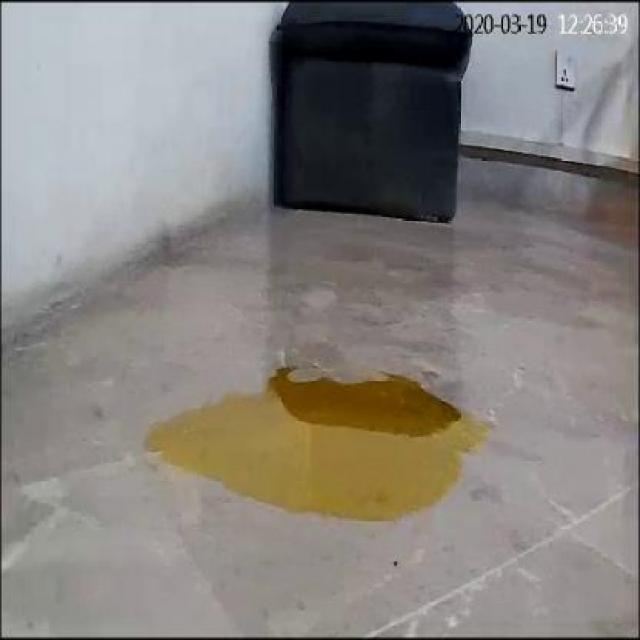spill: (132, 370, 498, 524)
